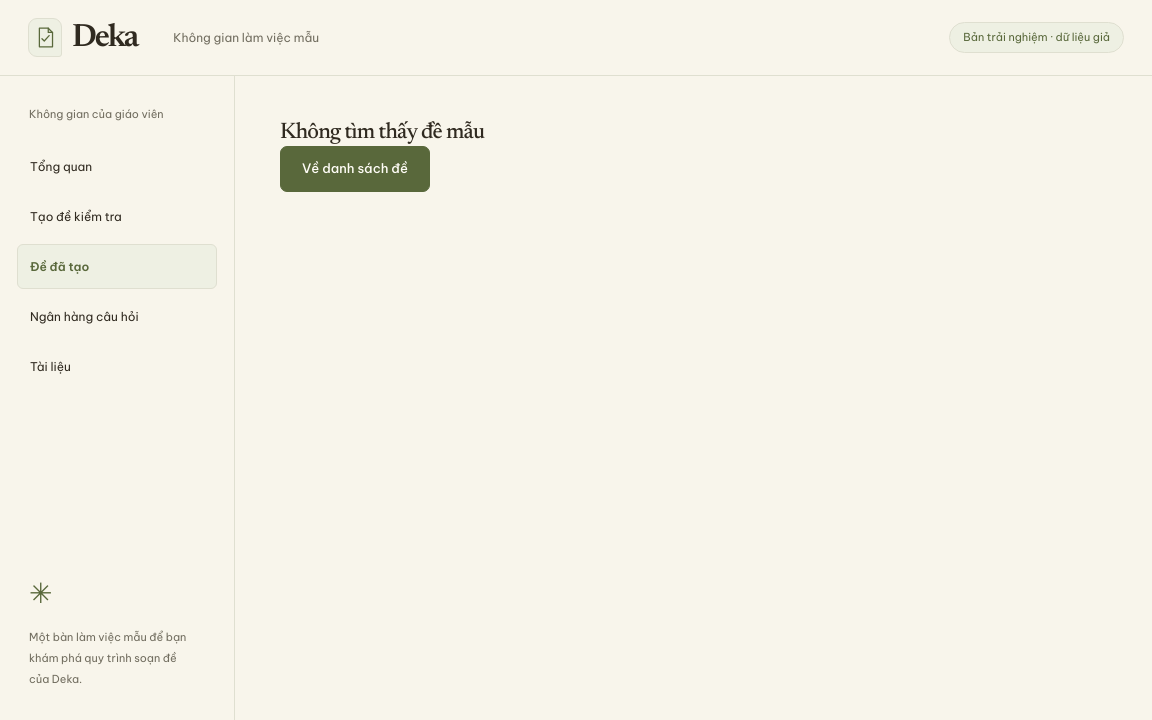
it: public demo edge cases › allows recovery from an unknown exam without losing the saved exam list
Expected: the heading "Không tìm thấy đề mẫu" is shown, x1=280 y1=121 x2=484 y2=144
Click the link "Về danh sách đề" at (355, 169), box x1=280 y1=146 x2=430 y2=192
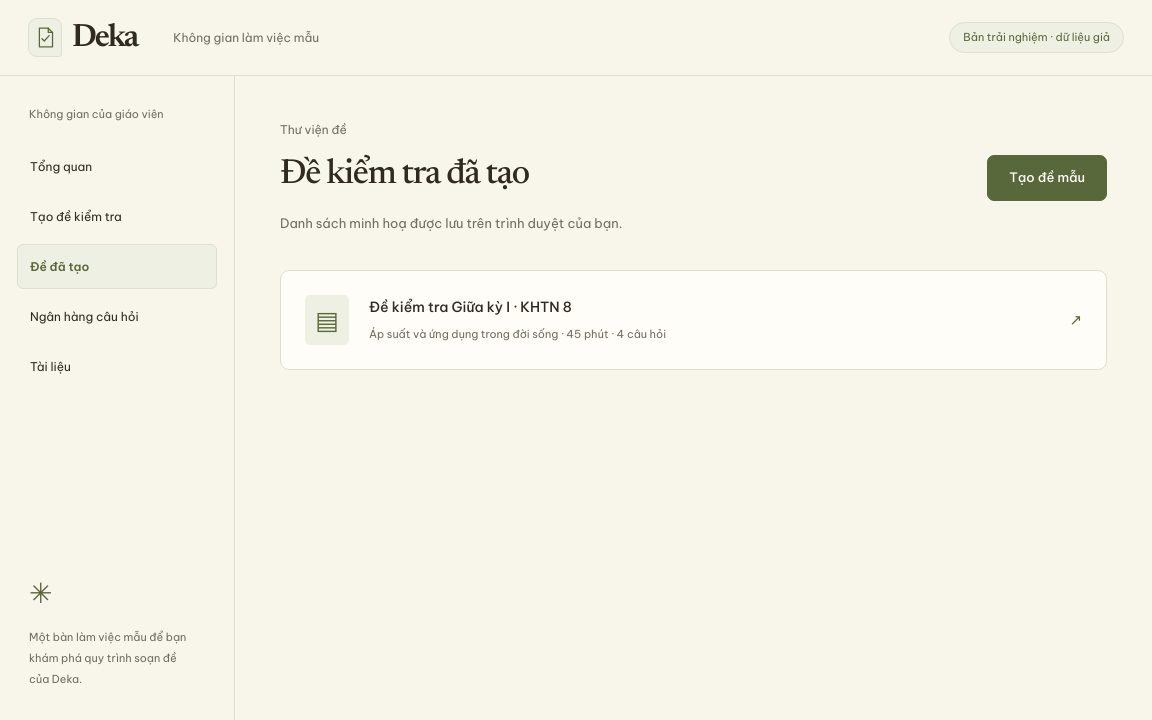
Expected: the heading "Đề kiểm tra đã tạo" is shown, x1=280 y1=158 x2=529 y2=192
Click the link "Đề kiểm tra Giữa kỳ I · KHTN 8" at (327, 320), box x1=280 y1=270 x2=1107 y2=370
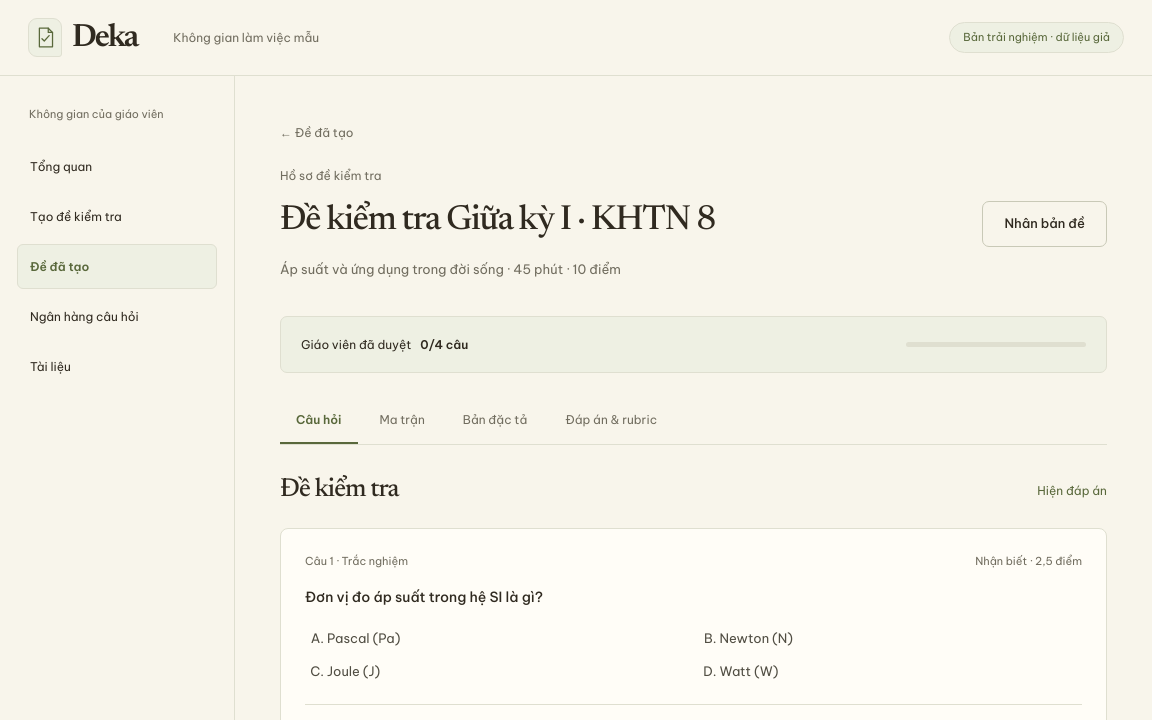
Expected: the heading "Đề kiểm tra Giữa kỳ I · KHTN 8" is shown, x1=280 y1=202 x2=715 y2=242
